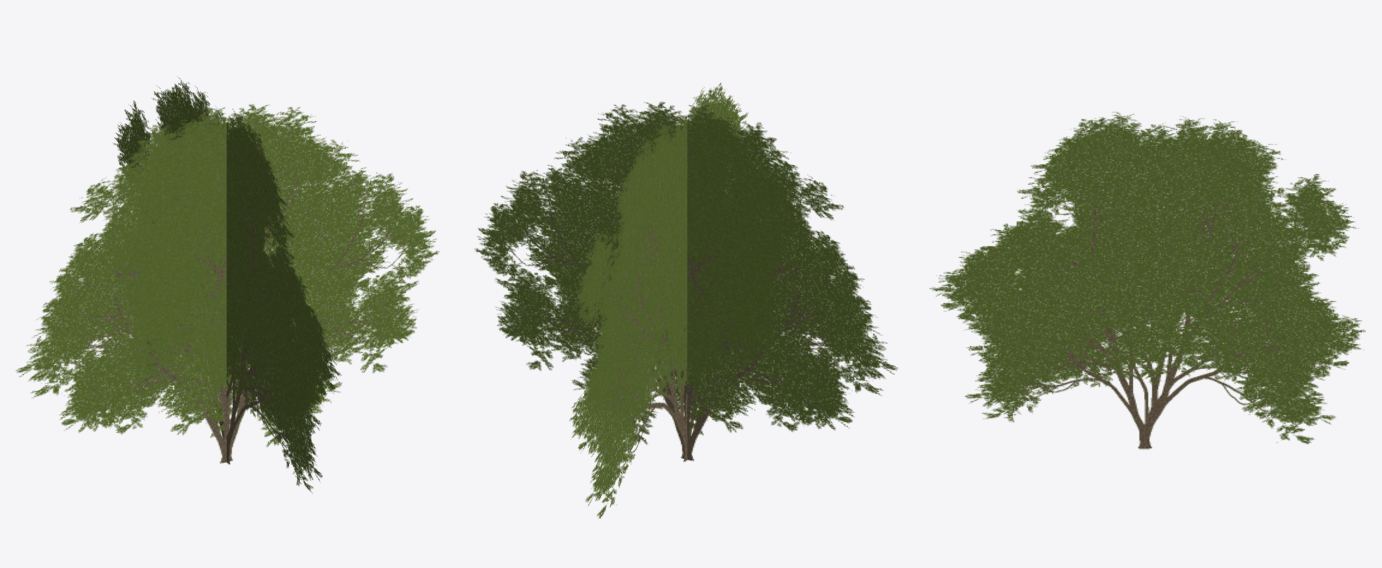
The model's file is JuglansRegia.glb.
3 renders of one model, left to right at view 1: azimuth 30°, elevation 25°; view 2: azimuth 150°, elevation 25°; view 3: azimuth 270°, elevation 25°, orthographic. The views are drawn at different scales.
Parts seen in each view (by area): view 1: mesh__mat_billboard_4; view 2: mesh__mat_billboard_4; view 3: mesh__mat_billboard_4.
Boxes of the visible parts, <box> form: mesh__mat_billboard_4: <box>16,77,439,493</box>; mesh__mat_billboard_4: <box>474,83,897,518</box>; mesh__mat_billboard_4: <box>929,112,1365,449</box>.
Bounding box in the file's own units: 12.58 × 10.32 × 11.94.
1 material, 1 textured.
